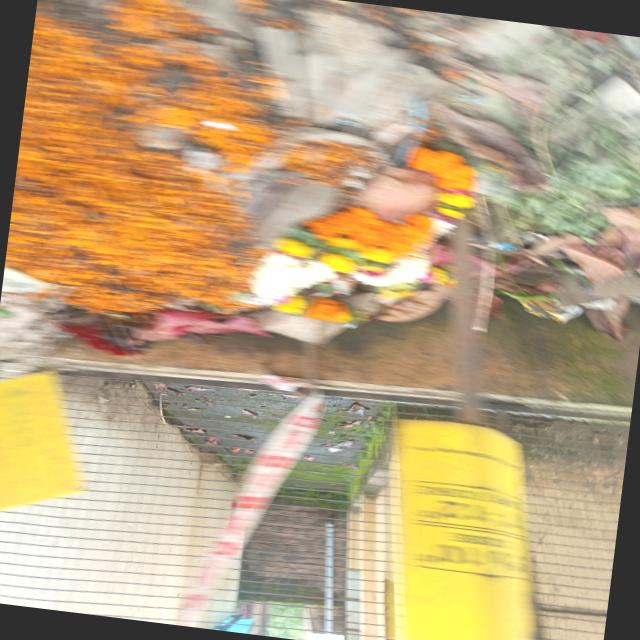garbage: (8, 0, 640, 365)
